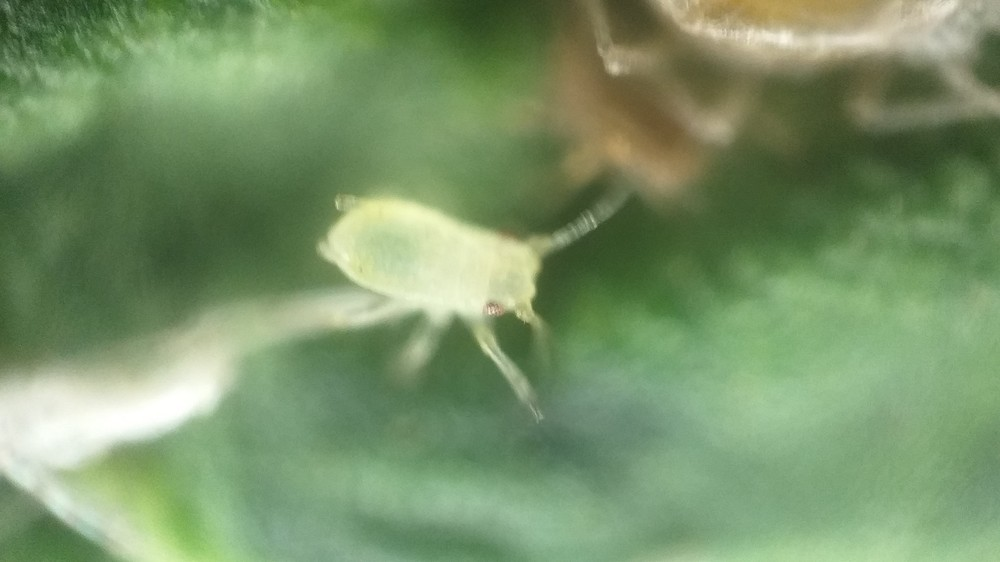Pulgon: (271, 148, 664, 430)
